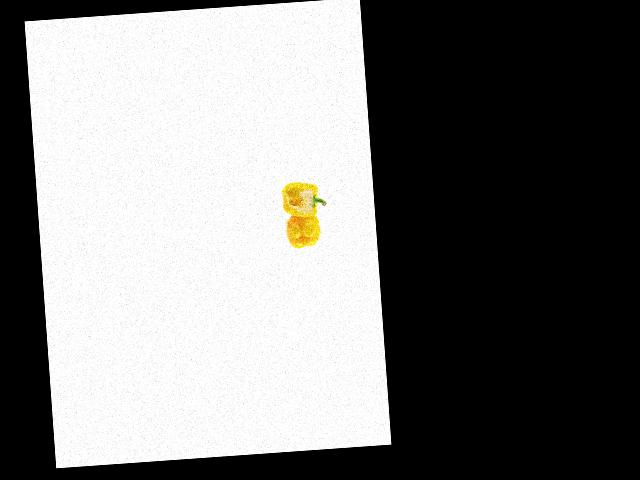bell_pepper: (273, 177, 328, 225)
